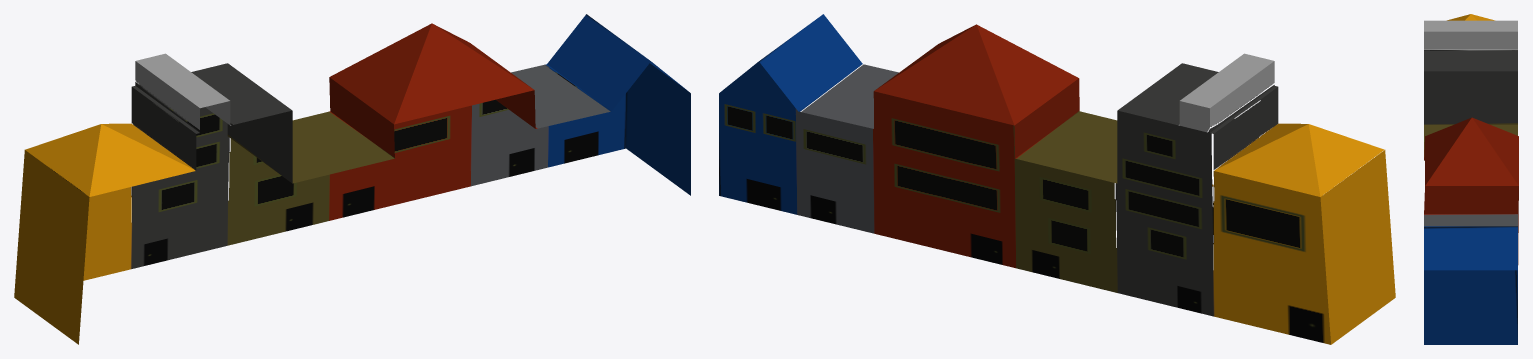
The model's file is model_intro_promp_miskHomes2.fbx.
3 views of the same model, side by side, from view 1: azimuth 30°, elevation 25°; view 2: azimuth 150°, elevation 25°; view 3: azimuth 270°, elevation 25° (orthographic). The views are drawn at different scales.
Visible parts, largest first — view 1: Plane_001; view 2: Plane_001; view 3: Plane_001.
Boxes of the visible parts, <box> form: Plane_001: <box>14,14,690,344</box>; Plane_001: <box>719,14,1395,344</box>; Plane_001: <box>1424,14,1518,344</box>.
Bounding box in the file's own units: 16.1 × 5.21 × 2.98.
